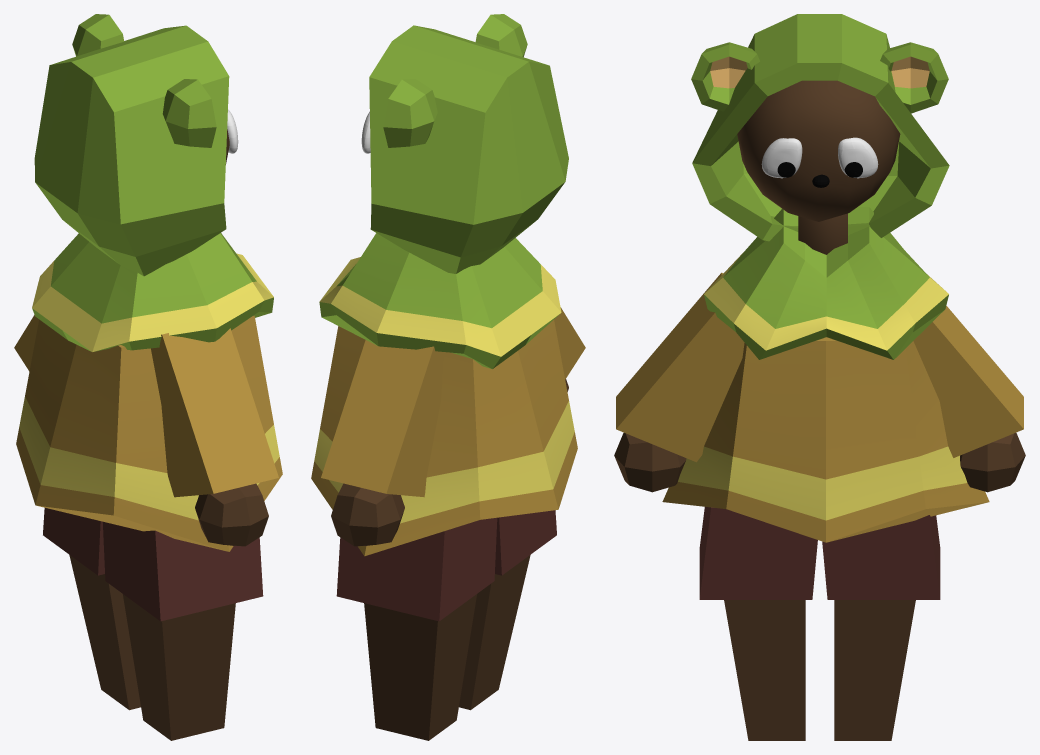
File: NpcBearColored.fbx
3 renders of one model, left to right at view 1: azimuth 30°, elevation 25°; view 2: azimuth 150°, elevation 25°; view 3: azimuth 270°, elevation 25°, orthographic. The views are drawn at different scales.
Parts seen in each view (by area): view 1: Cube.009, Cube.003, Cube.004, Cube.005, Cube.007, Cube.011, Cube.010, Cube.008; view 2: Cube.009, Cube.003, Cube.004, Cube.005, Cube.007, Cube.011, Cube.010, Cube.008; view 3: Cube.003, Cube.004, Cube.009, Cube.007, Cube.005, Cube.011, Cube.001, Cube.010, Cube.008, Cube.006, Cube.002.
Boxes of the visible parts, x1,y1,x2,y2 form: Cube.009: (34, 25, 229, 276); Cube.003: (16, 315, 282, 551); Cube.004: (32, 233, 273, 351); Cube.005: (69, 555, 235, 740); Cube.007: (14, 315, 278, 497); Cube.011: (43, 508, 263, 621); Cube.010: (72, 14, 216, 147); Cube.008: (195, 483, 268, 546); Cube.009: (369, 25, 568, 273); Cube.003: (311, 320, 577, 556); Cube.004: (319, 233, 561, 369); Cube.005: (364, 555, 530, 740); Cube.007: (321, 307, 585, 497); Cube.011: (336, 510, 556, 621); Cube.010: (383, 14, 527, 147); Cube.008: (331, 379, 568, 546); Cube.003: (662, 337, 989, 542); Cube.004: (704, 207, 948, 359); Cube.009: (692, 14, 949, 241); Cube.007: (616, 272, 1023, 462); Cube.005: (724, 600, 915, 740); Cube.011: (699, 507, 940, 599); Cube.001: (737, 80, 900, 221); Cube.010: (691, 42, 948, 113); Cube.008: (614, 433, 1025, 492); Cube.006: (761, 137, 878, 178); Cube.002: (798, 213, 847, 254).
Bounding box in the file's own units: 200 × 559 × 306.
